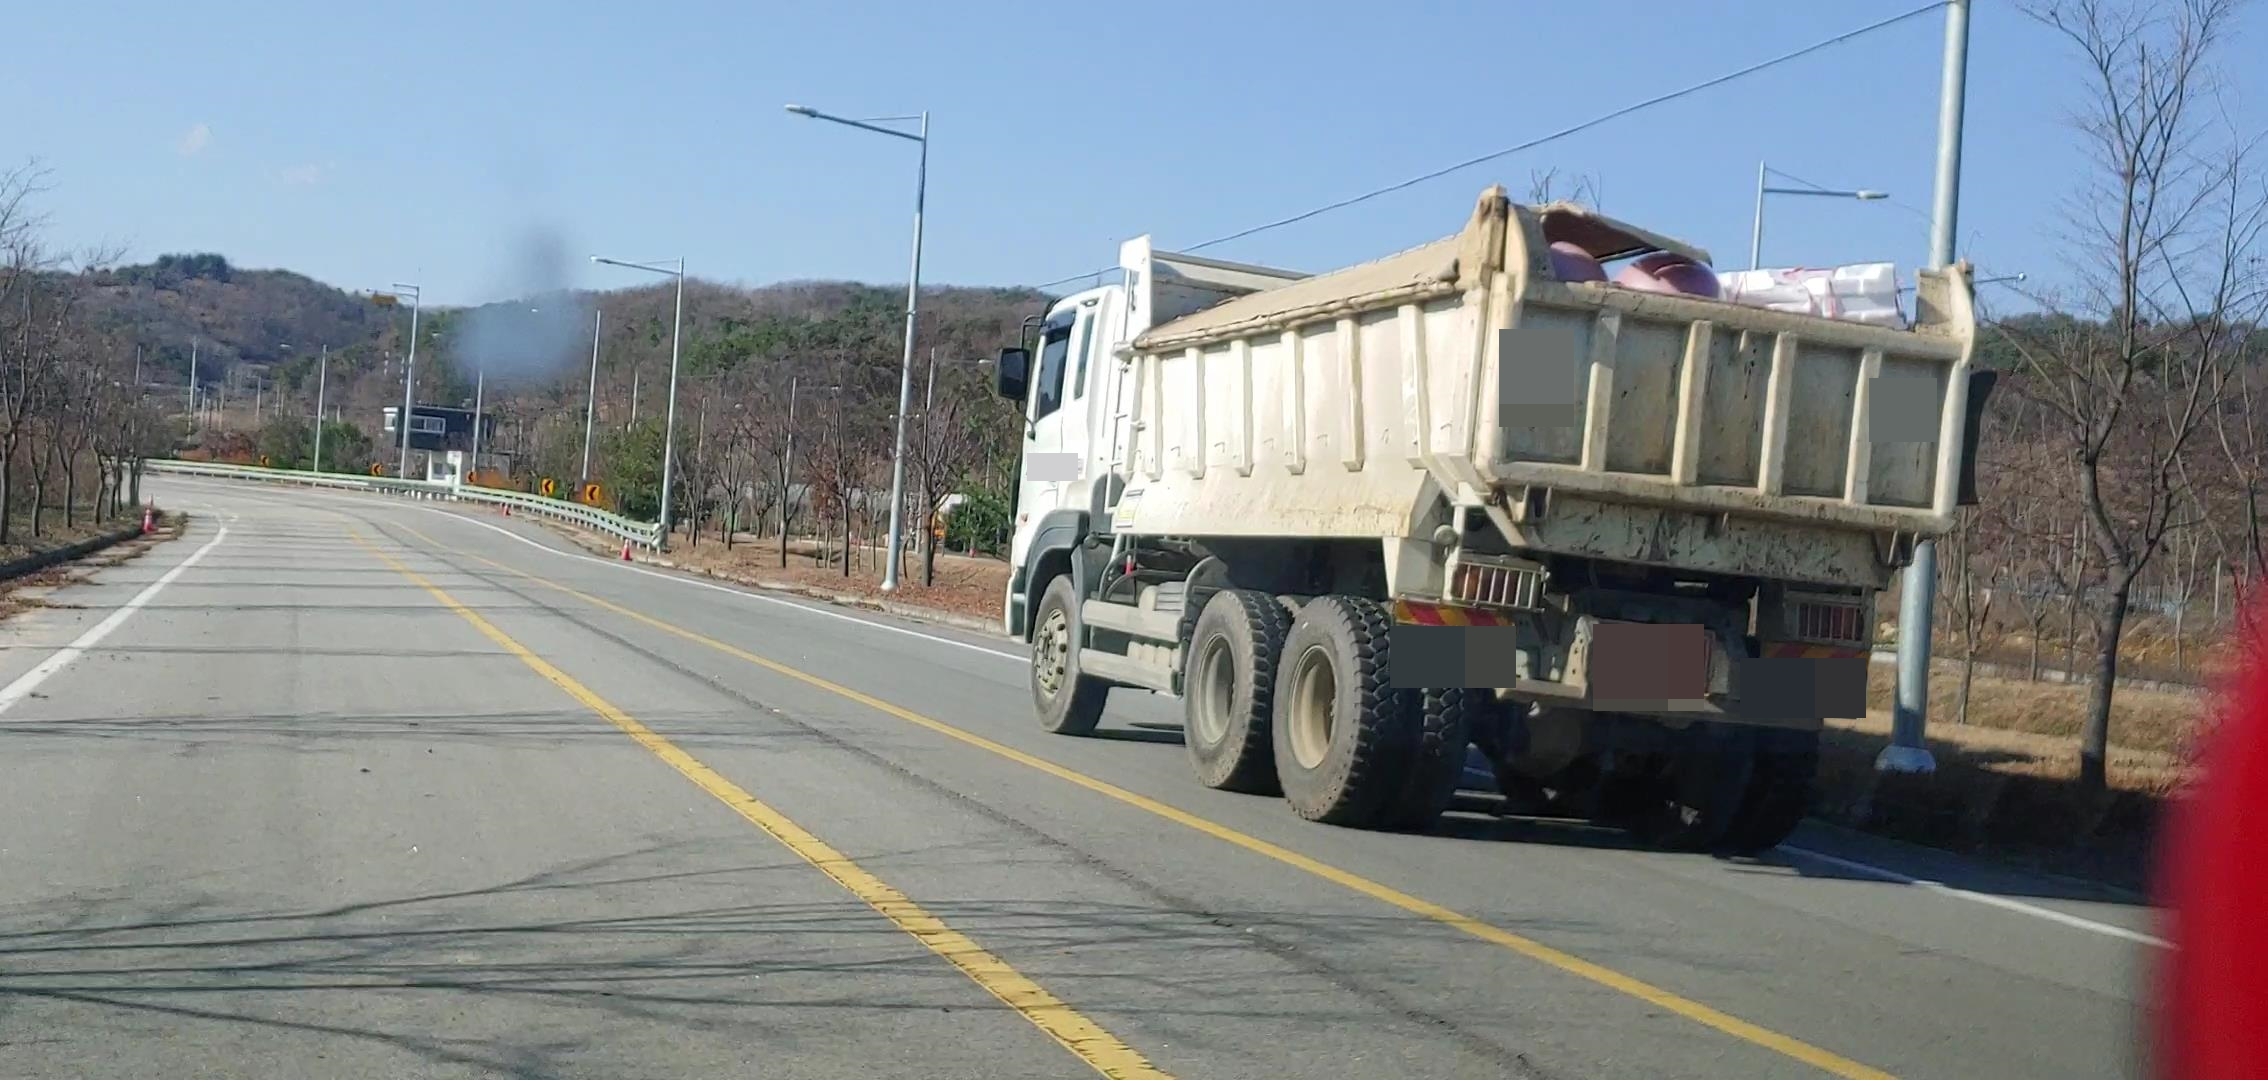불법차량: (996, 184, 2000, 854)
